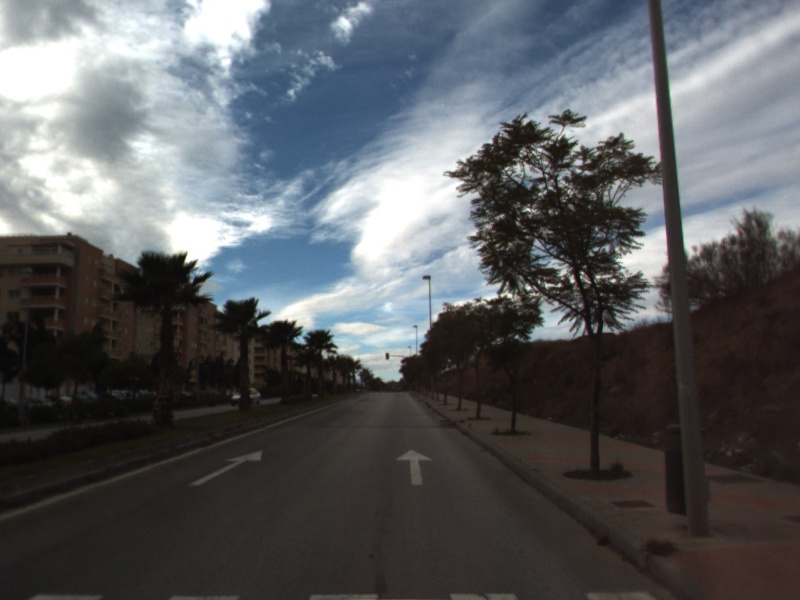STRAIGHT: (187, 448, 264, 488), (395, 447, 435, 487)
